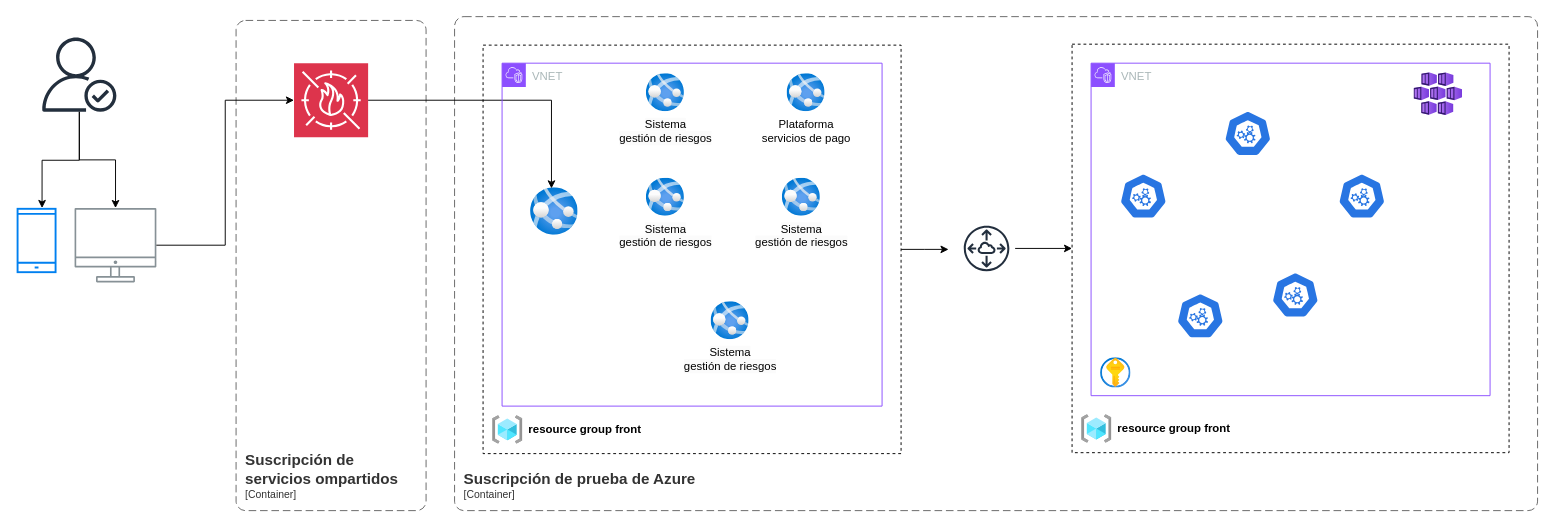
The diagram is 1554 pixels wide and 527 high, and some of its shapes have lost their labels. Here are the shapes that lost their labels. From the top down, the centre of each, then its label:
At point (1438, 93): "Azure Kubernates Services".
At point (554, 211): "APP SERVICE CONTENEDOR".
At point (115, 245): "desktop".
At point (986, 248): "Peering".
